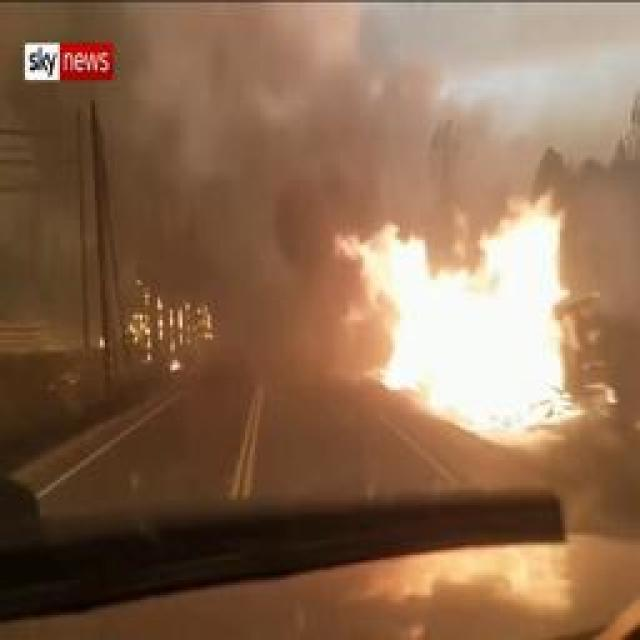Fire: (334, 208, 577, 431)
Smoke: (17, 10, 319, 377)
